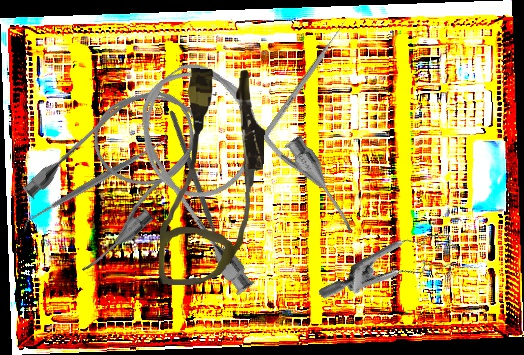Cannula: (108, 32, 365, 308), (12, 65, 228, 280), (158, 67, 267, 288)
Chopper: (115, 109, 270, 260)
Pusher: (248, 15, 351, 159)
Spatula Surgical: (15, 130, 175, 234)
Speculum: (317, 193, 470, 352)
